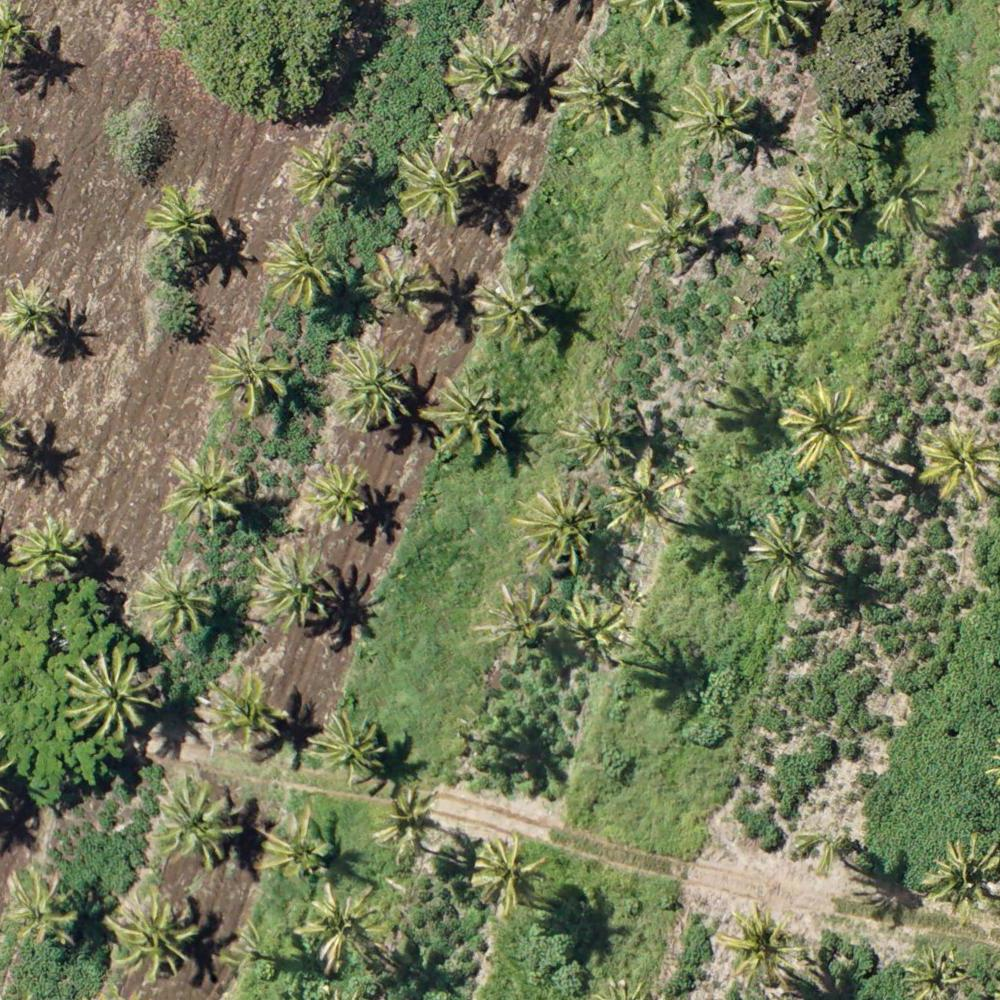Palm: (781, 379, 880, 473), (421, 372, 517, 466), (107, 885, 197, 981), (622, 186, 721, 269), (206, 332, 293, 422), (67, 656, 157, 742), (153, 777, 240, 865), (513, 485, 604, 568), (915, 418, 1000, 506), (719, 906, 812, 984), (252, 544, 336, 627), (774, 165, 857, 249), (396, 143, 481, 225), (299, 886, 384, 968), (676, 80, 758, 163), (328, 347, 412, 428), (1, 863, 81, 948), (607, 450, 682, 540), (132, 560, 215, 641), (206, 673, 288, 752), (923, 836, 1000, 918), (261, 230, 341, 308), (475, 586, 555, 664), (469, 267, 551, 343), (748, 513, 824, 595), (553, 59, 638, 132), (164, 449, 241, 528), (467, 832, 546, 908), (562, 400, 642, 468), (368, 249, 441, 323), (256, 812, 331, 883), (146, 182, 216, 258), (315, 714, 389, 782), (13, 512, 82, 584), (448, 33, 521, 101), (287, 134, 355, 206), (875, 165, 945, 233), (561, 593, 628, 663), (375, 788, 439, 857), (900, 942, 971, 1000), (4, 276, 58, 352), (304, 461, 367, 526), (809, 109, 866, 160)
